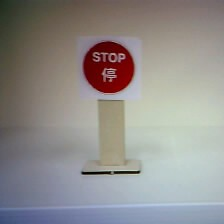stop: (74, 35, 142, 97)
